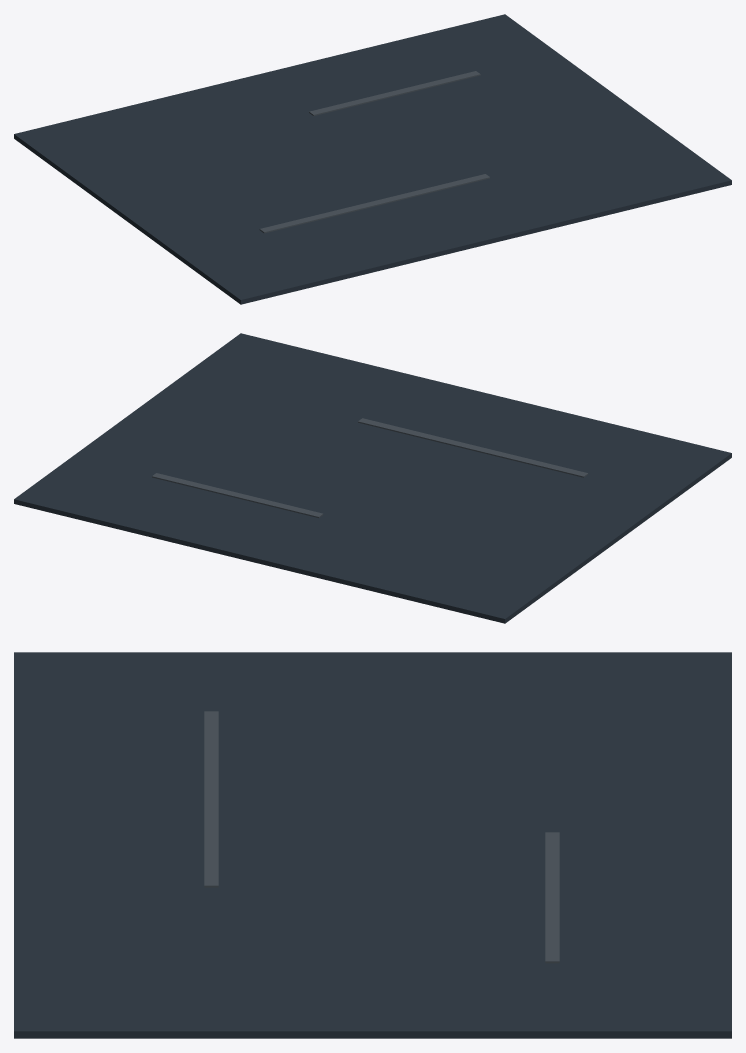
Rendered from floor.office_carpet_patch.glb.
The picture shows the model from 3 angles, top to bottom: view 1: azimuth 30°, elevation 25°; view 2: azimuth 150°, elevation 25°; view 3: azimuth 270°, elevation 25°; orthographic projection. The views are drawn at different scales.
Parts seen in each view (by area): view 1: carpet_floor, bloodless_scuff_a, bloodless_scuff_b; view 2: carpet_floor, bloodless_scuff_a, bloodless_scuff_b; view 3: carpet_floor, bloodless_scuff_a, bloodless_scuff_b.
Boxes of the visible parts, x1=… form: carpet_floor: x1=14, y1=14, x2=731, y2=304; bloodless_scuff_a: x1=259, y1=174, x2=489, y2=233; bloodless_scuff_b: x1=309, y1=71, x2=480, y2=115; carpet_floor: x1=14, y1=333, x2=731, y2=623; bloodless_scuff_a: x1=358, y1=418, x2=588, y2=477; bloodless_scuff_b: x1=152, y1=473, x2=323, y2=517; carpet_floor: x1=14, y1=652, x2=731, y2=1038; bloodless_scuff_a: x1=204, y1=711, x2=218, y2=887; bloodless_scuff_b: x1=545, y1=832, x2=559, y2=963.
Bounding box in the file's own units: 5 × 0.0795 × 4.
